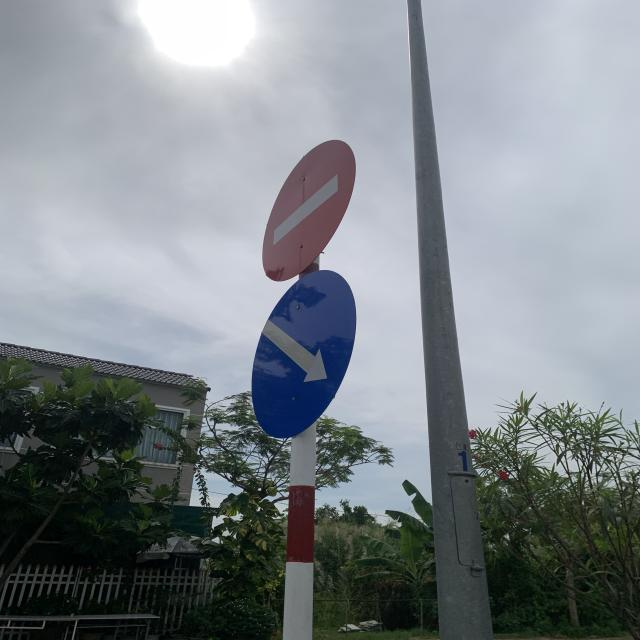Cam_Di_Nguoc_Chieu: (261, 140, 355, 282)
Chi_Huong_Di_Phai: (254, 271, 356, 439)
